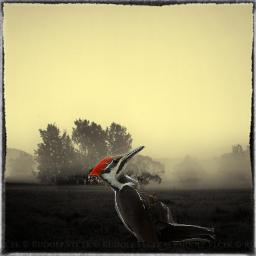Woodpecker: (81, 146, 222, 242)
